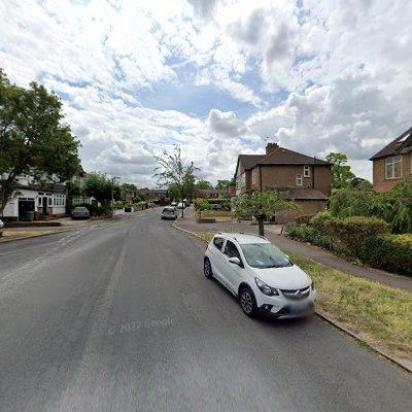stationary-car-offstreet: (69, 206, 91, 221)
stationary-car-onstreet: (202, 230, 316, 326), (161, 206, 177, 220), (178, 202, 186, 208)
